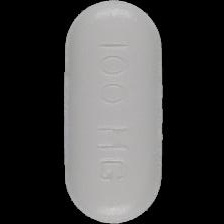55154-0975: (0, 0, 224, 224)
